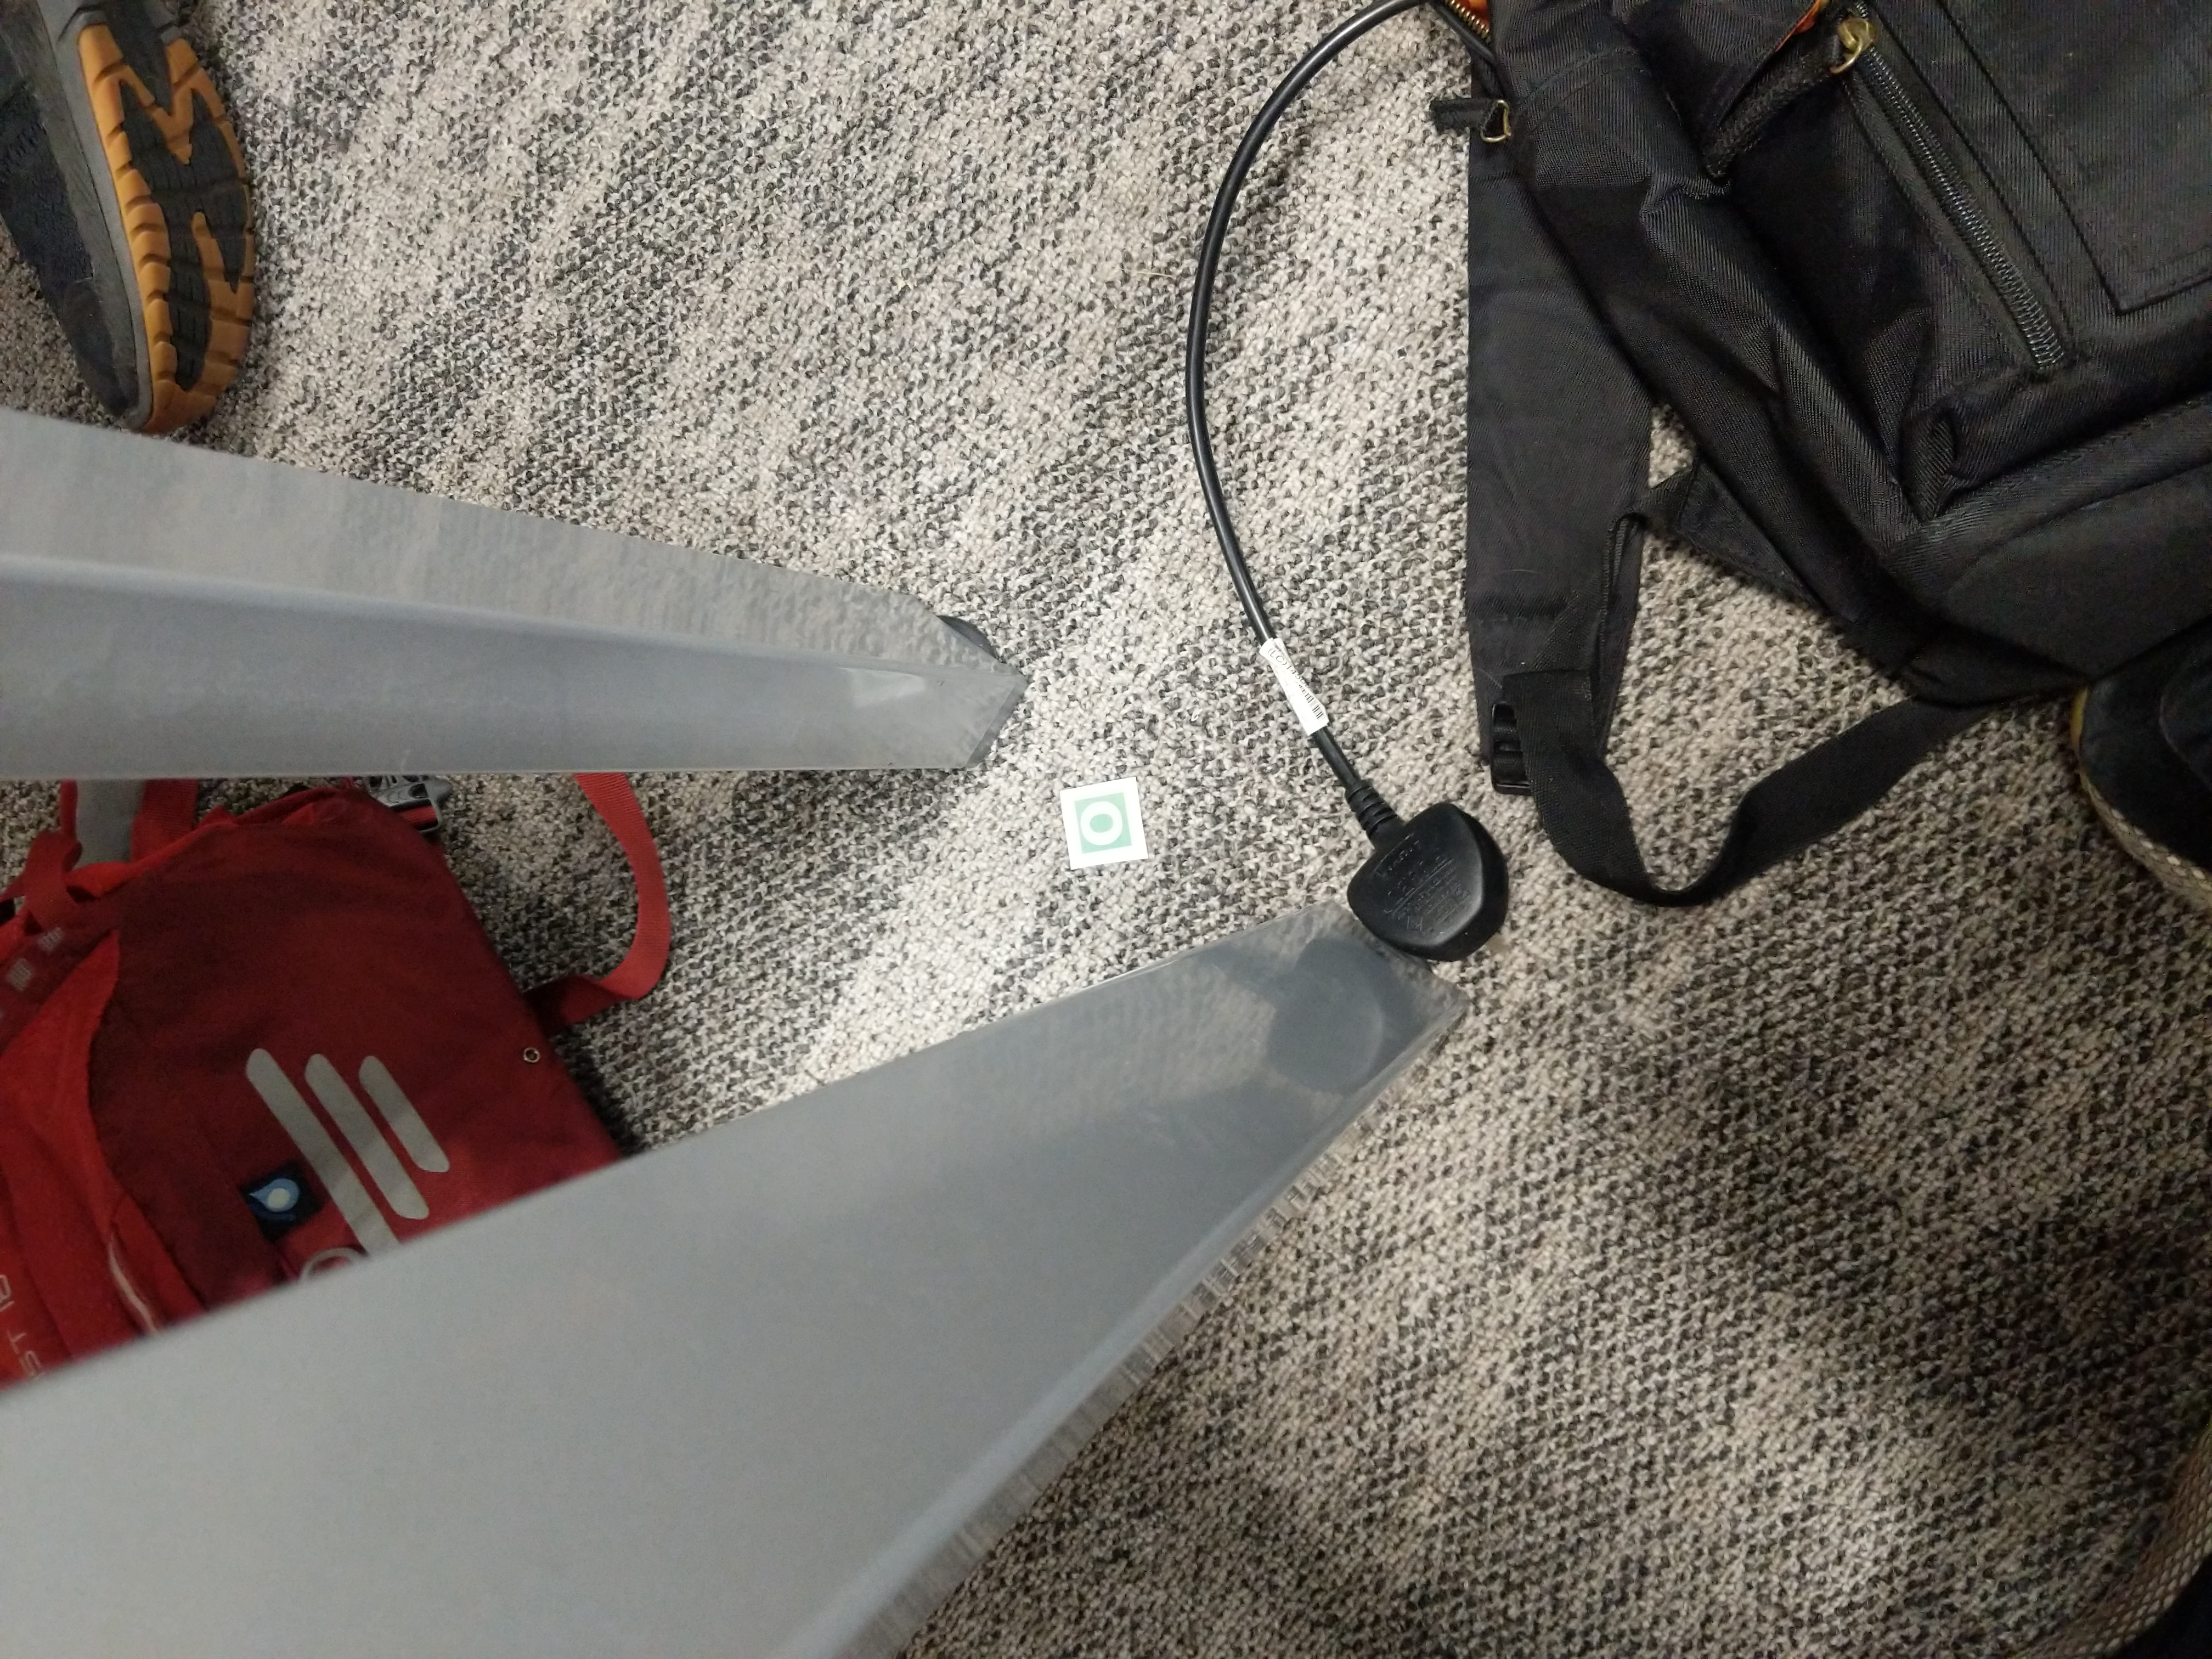green marker: (1057, 769, 1163, 877)
